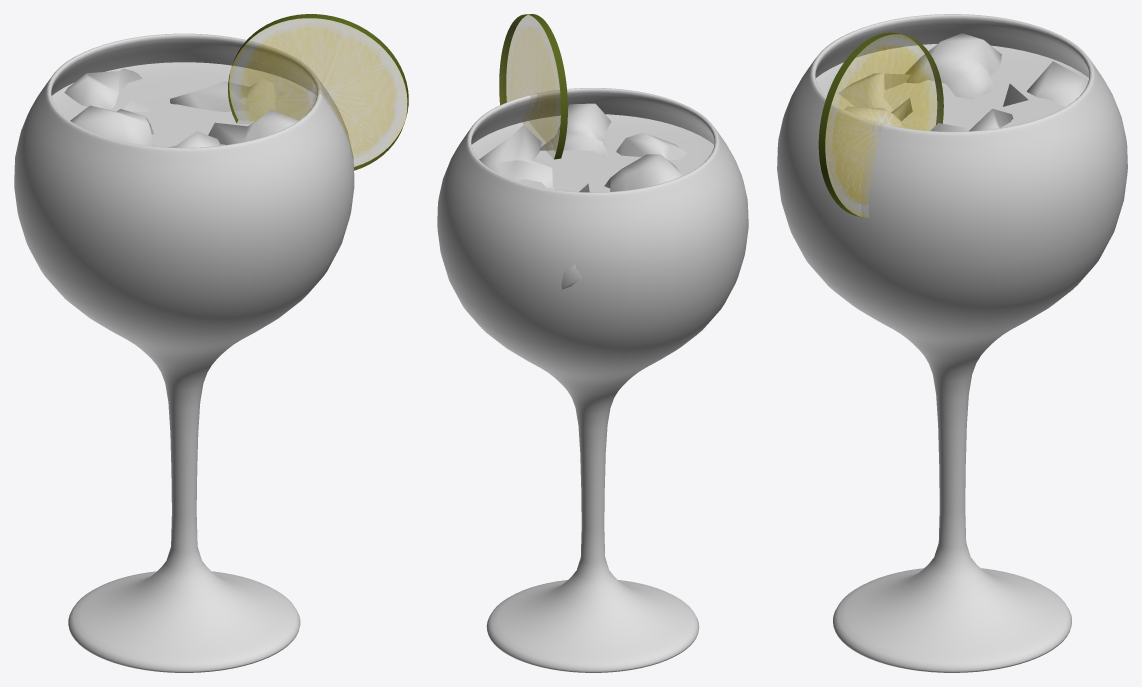
Rendered from GinGlassLight-materailchanged.glb.
The picture shows the model from 3 angles, left to right: view 1: azimuth 30°, elevation 25°; view 2: azimuth 150°, elevation 25°; view 3: azimuth 270°, elevation 25°; orthographic projection. The views are drawn at different scales.
Visible parts, largest first — view 1: Gintonica Glass, Lemon.002, Gin Drink.001, Ice; view 2: Gintonica Glass, Ice, Gin Drink.001, Lemon.002; view 3: Gintonica Glass, Lemon.002, Gin Drink.001, Ice.
Boxes of the visible parts, bbox=[...] form: Gintonica Glass: bbox=[14, 33, 354, 672]; Lemon.002: bbox=[228, 14, 408, 170]; Gin Drink.001: bbox=[51, 62, 316, 147]; Ice: bbox=[64, 68, 298, 147]; Gintonica Glass: bbox=[437, 88, 748, 672]; Ice: bbox=[479, 103, 686, 289]; Gin Drink.001: bbox=[471, 114, 714, 192]; Lemon.002: bbox=[499, 14, 567, 159]; Gintonica Glass: bbox=[777, 14, 1127, 672]; Lemon.002: bbox=[818, 32, 943, 218]; Gin Drink.001: bbox=[816, 44, 1088, 130]; Ice: bbox=[838, 33, 1088, 131].
Size of the model in its own units: 0.1158 by 0.2185 by 0.1099.
Materials: 3 (1 with a texture image).
